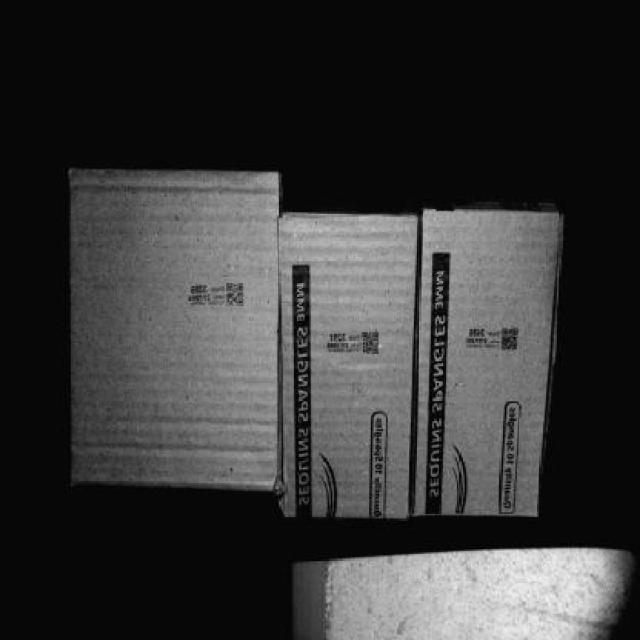cardboxes: (69, 175, 277, 480), (412, 209, 559, 525), (280, 222, 414, 518)
